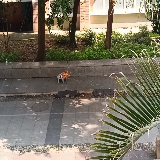fire: (60, 70, 69, 78)
